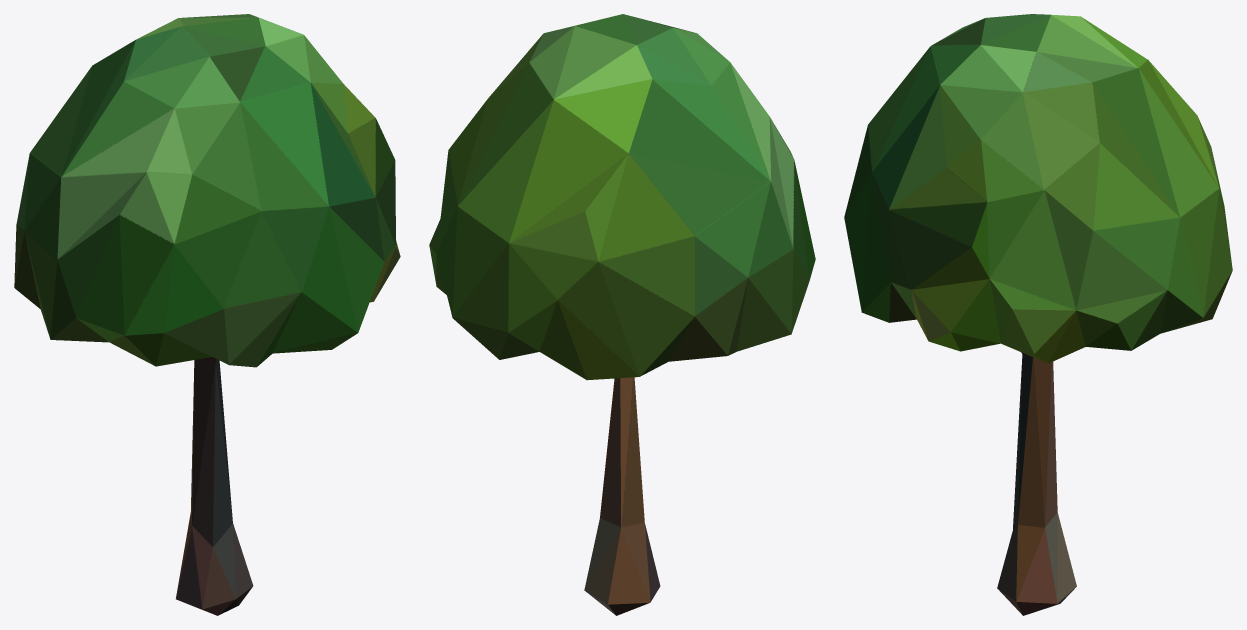
Rendered from tree1.glb.
The picture shows the model from 3 angles, left to right: view 1: azimuth 30°, elevation 25°; view 2: azimuth 150°, elevation 25°; view 3: azimuth 270°, elevation 25°; orthographic projection.
Size of the model in its own units: 0.7178 by 1.2 by 0.7245.
Materials: 1 (1 with a texture image).
